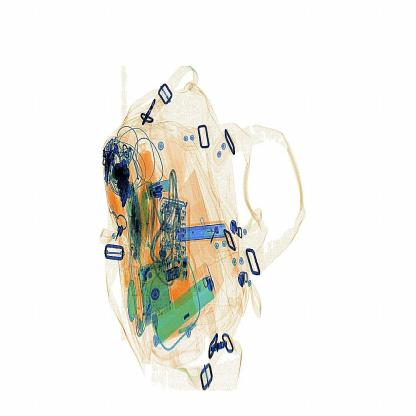pliers: (168, 215, 236, 251)
